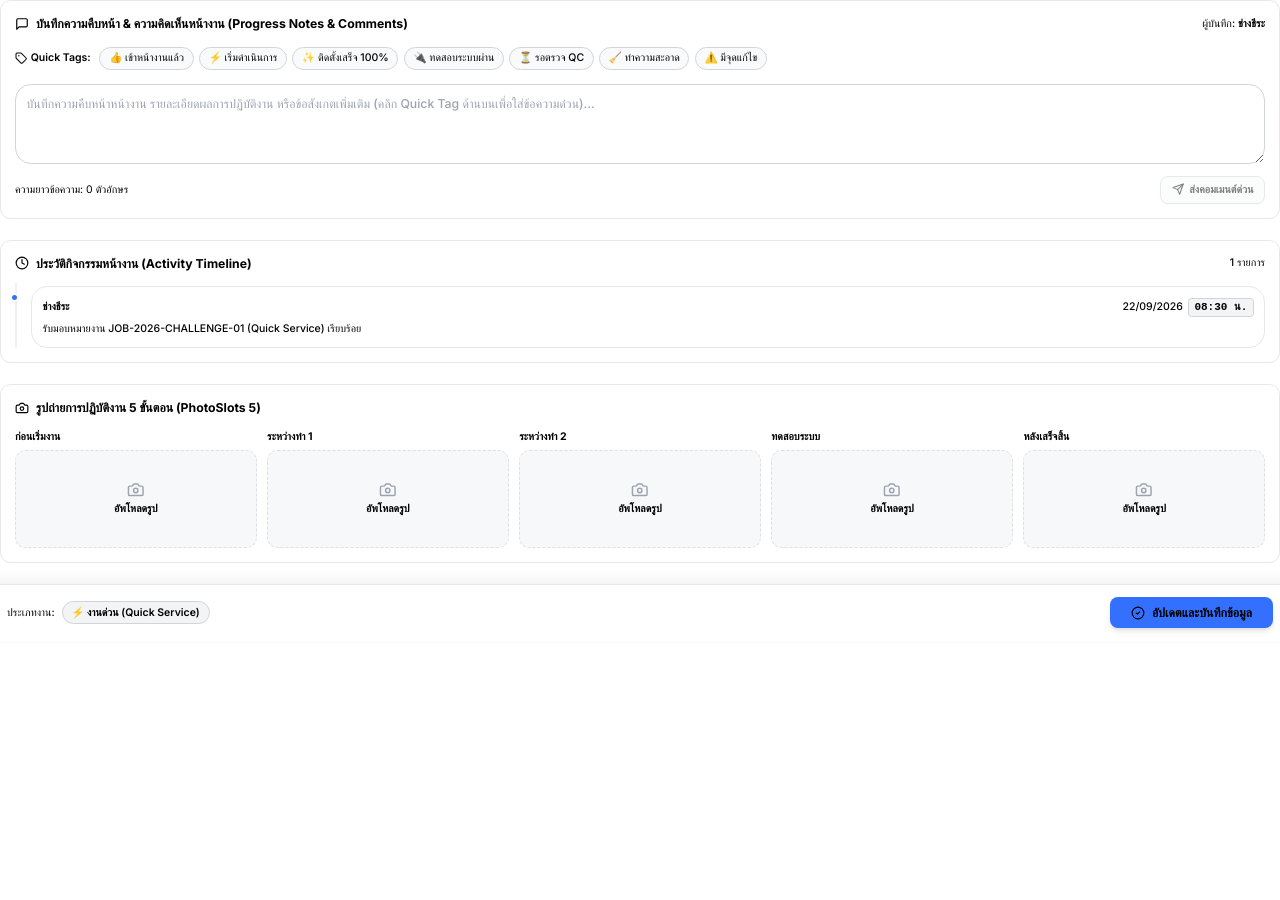
it: Mission 2: Quick Tags Adversarial Tests › supports sequential multi-tag chaining
What coordinates should you click on to do the following:
click the button "👍 เข้าหน้างานแล้ว"
I would click on:
 (147, 58)
Its box is [99,46,194,70].
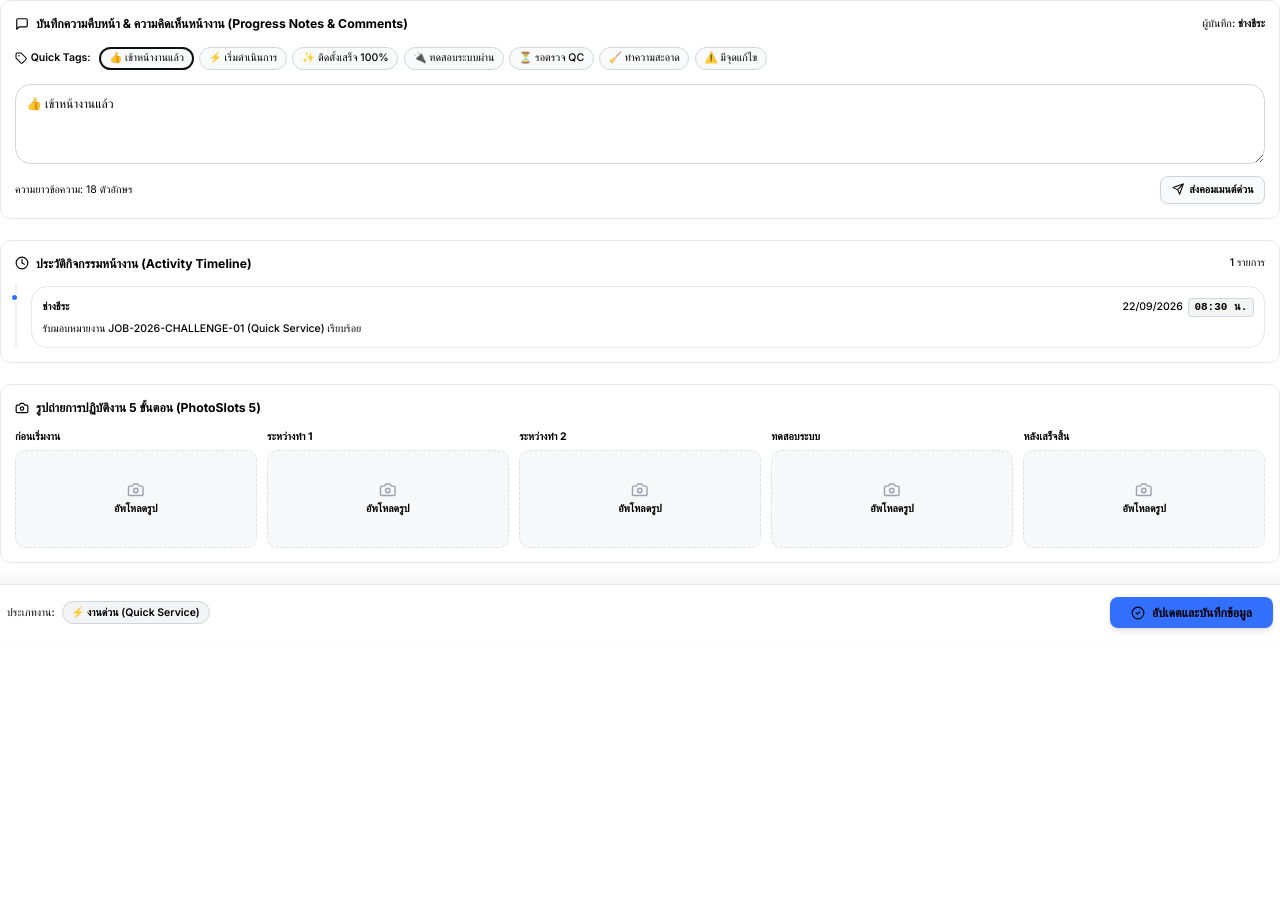
What coordinates should you click on to do the following:
click the button "⚡ เริ่มดำเนินการ"
I would click on:
 (243, 58)
Its box is [199,46,287,70].
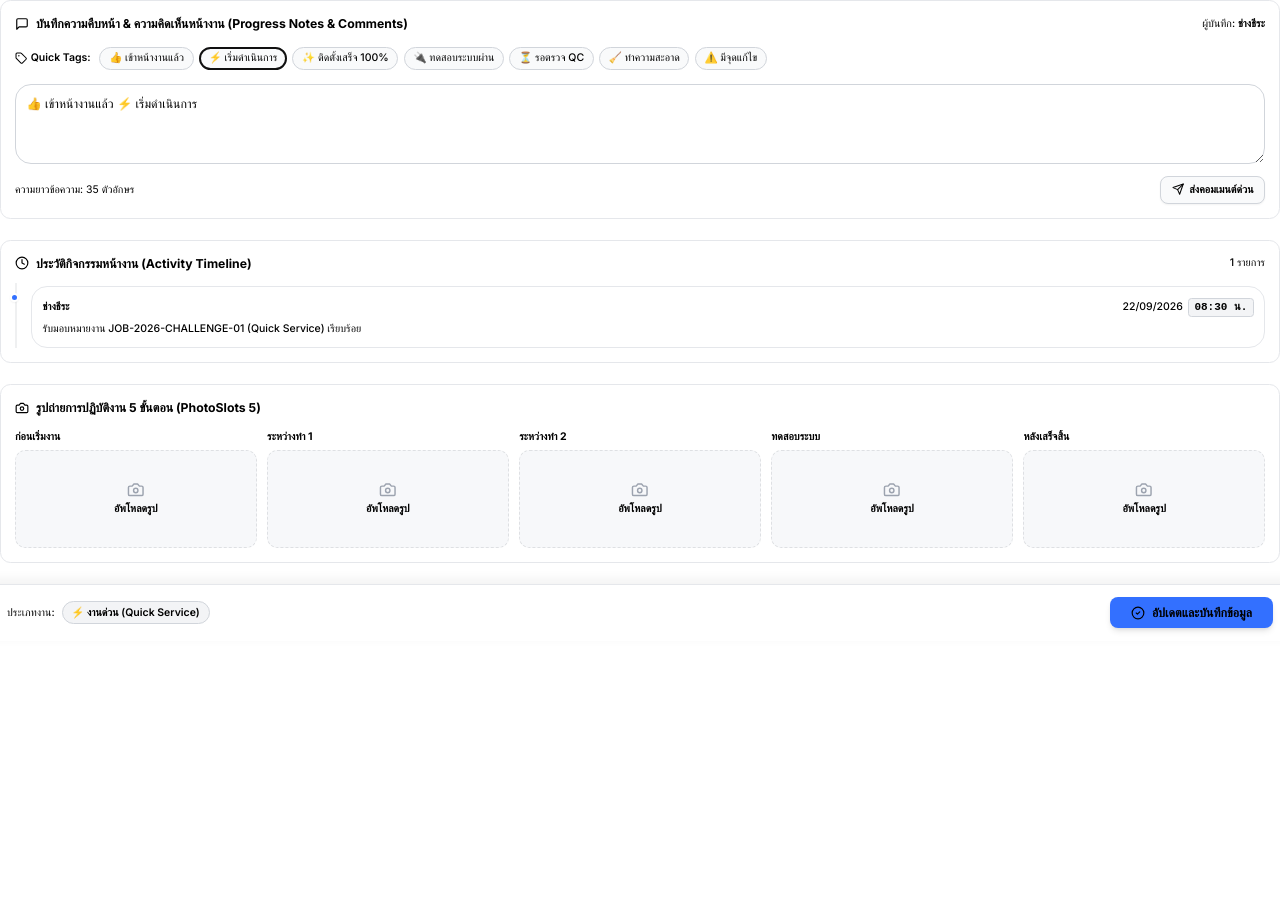
What coordinates should you click on to do the following:
click the button "🔌 ทดสอบระบบผ่าน"
I would click on:
 (454, 58)
Its box is [404,46,504,70].
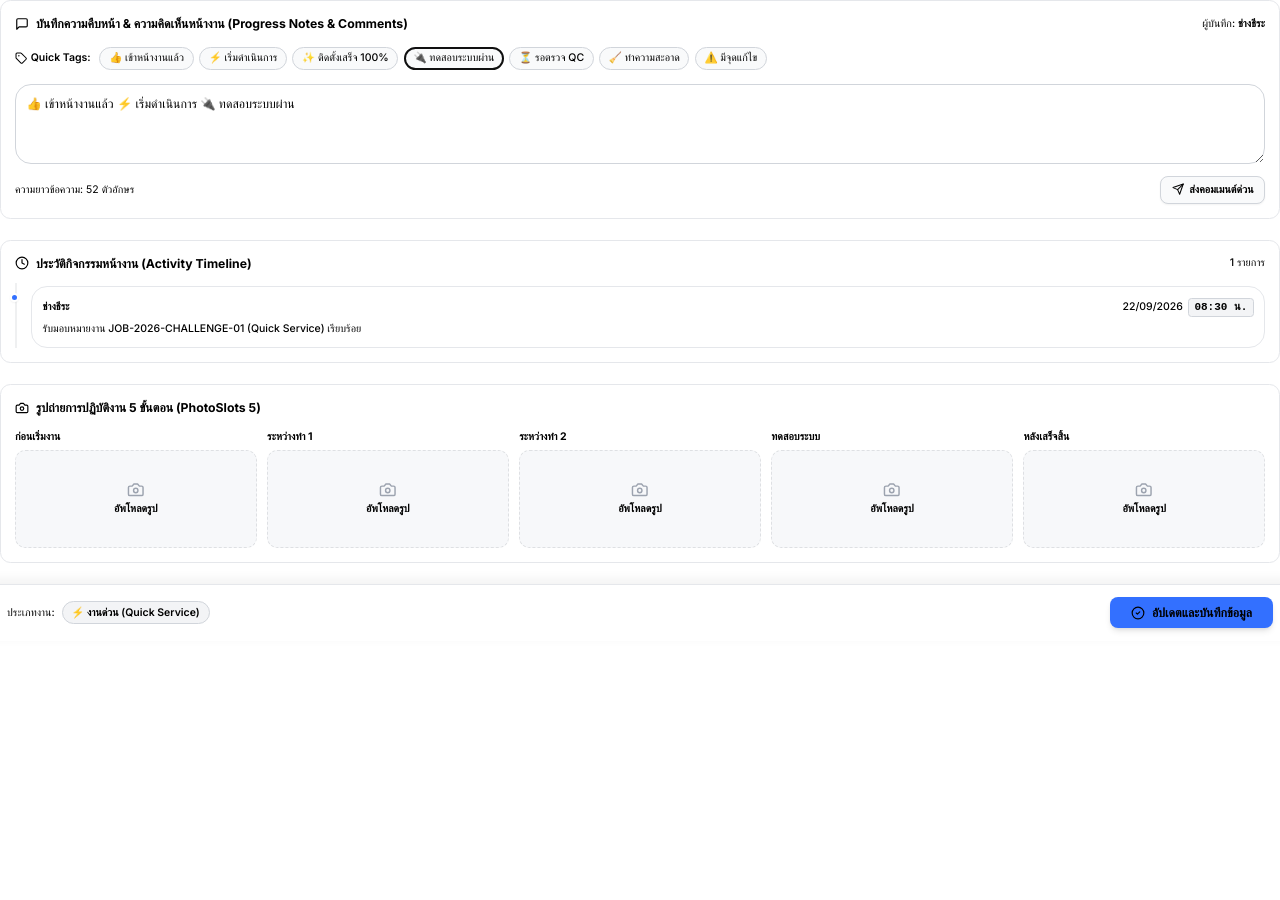
Expected: the text box named "บันทึกความคืบหน้า" holds "👍 เข้าหน้างานแล้ว ⚡ เริ่มดำเนินการ 🔌 ทดสอบระบบผ่าน", [15,84,1265,164]
